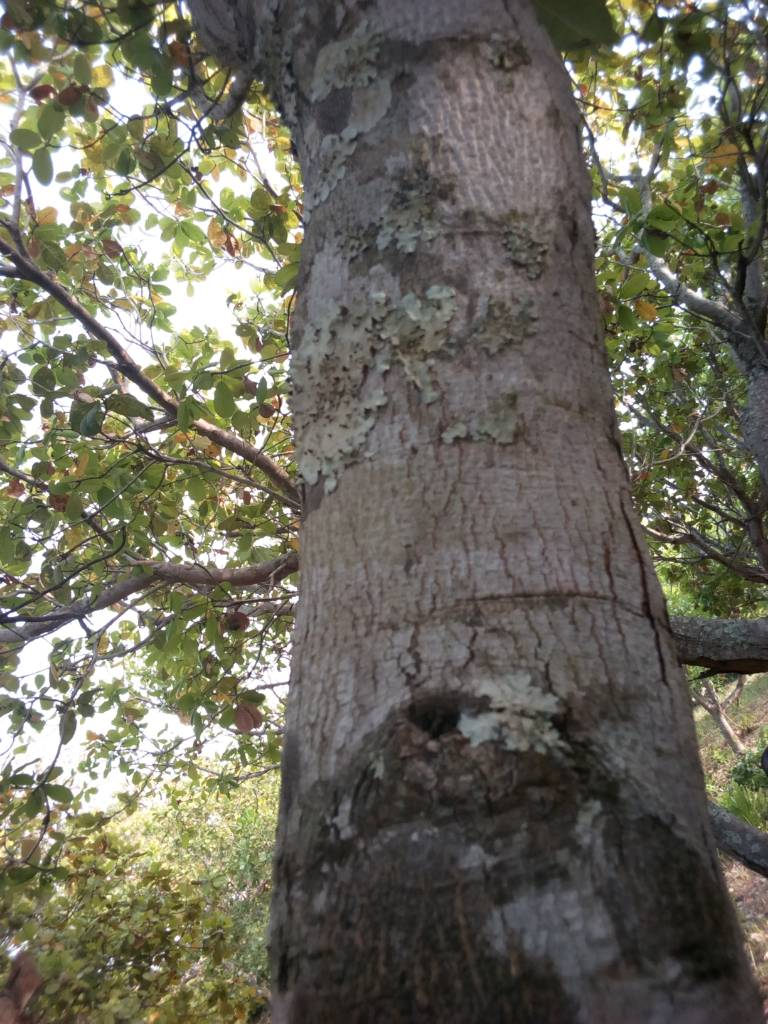Apate terebrans: (352, 646, 543, 788)
